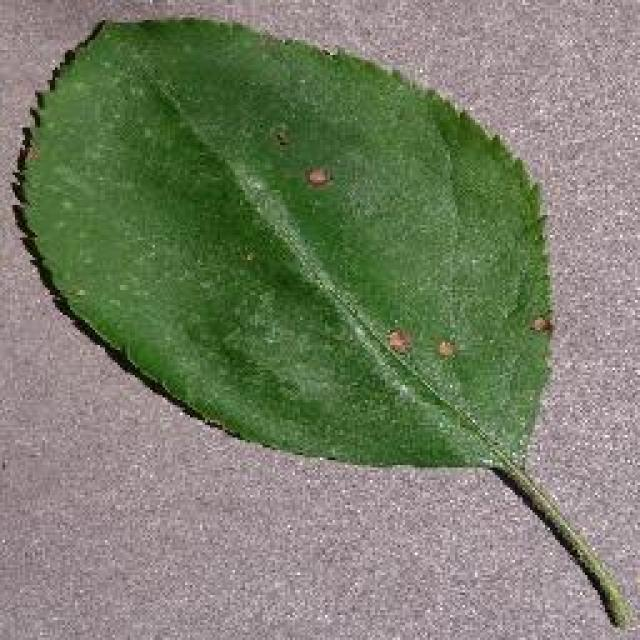Black_rot: (8, 12, 632, 630)
